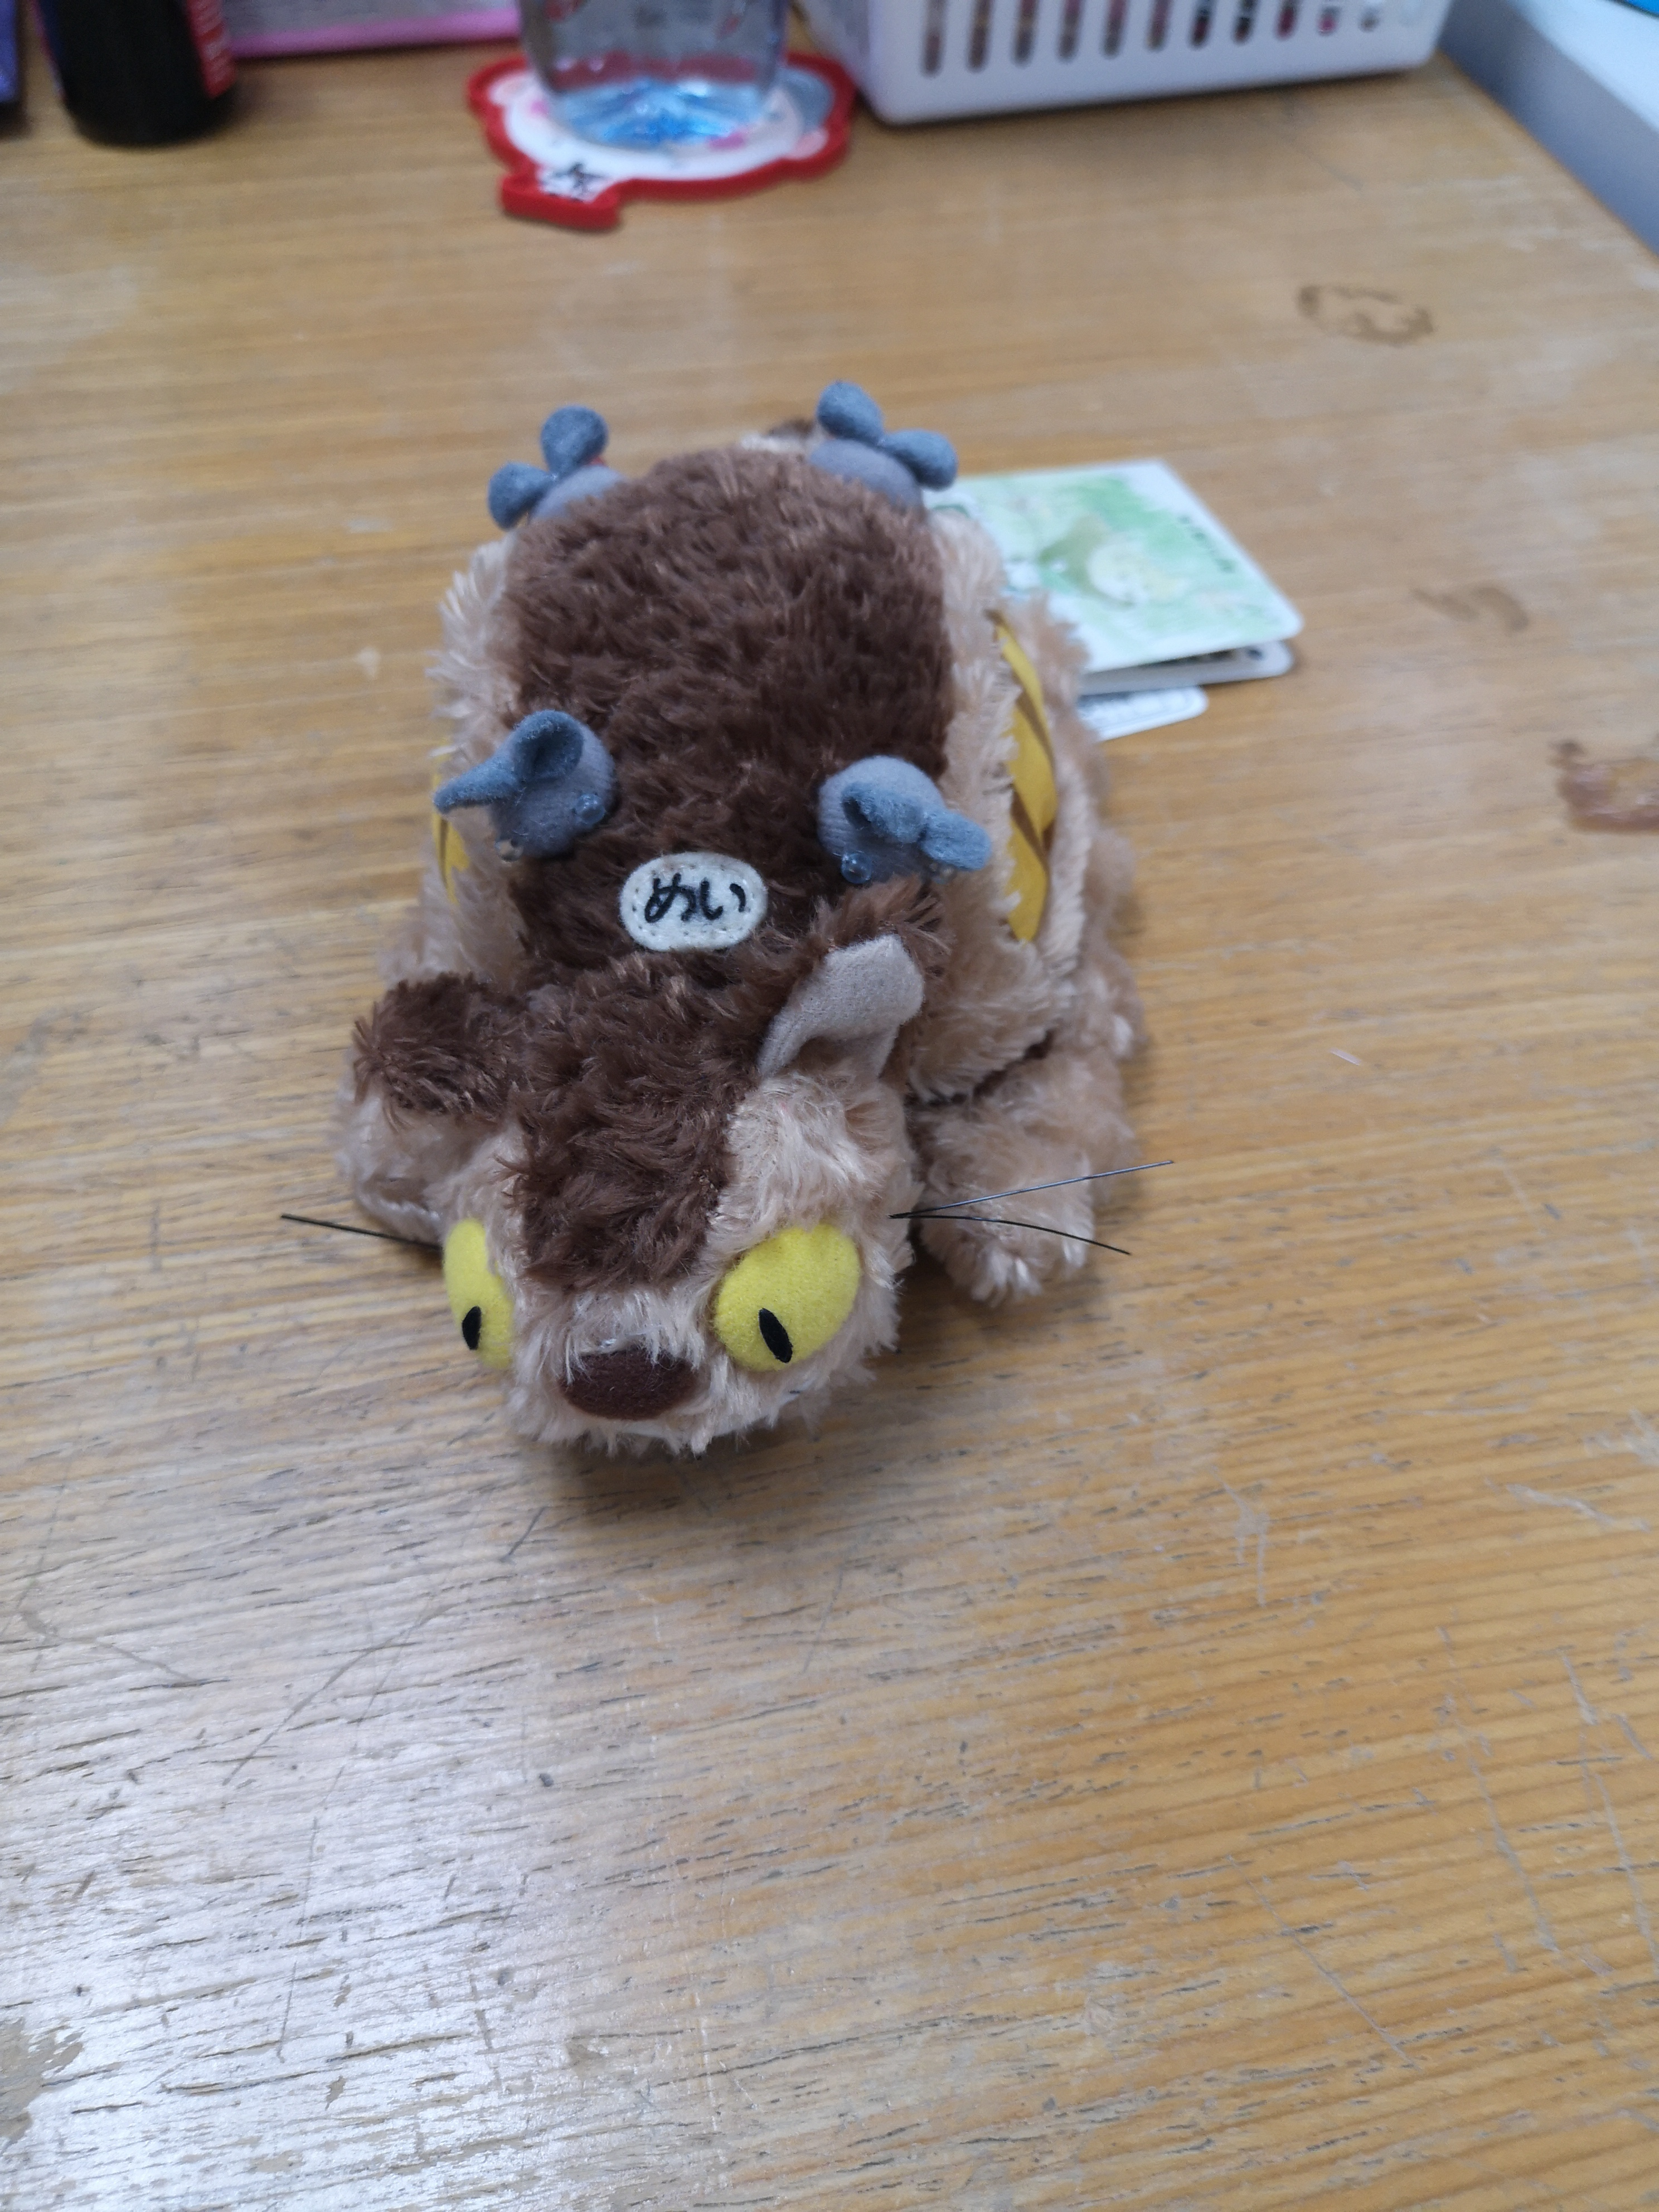nekobus: (272, 364, 1176, 1475)
